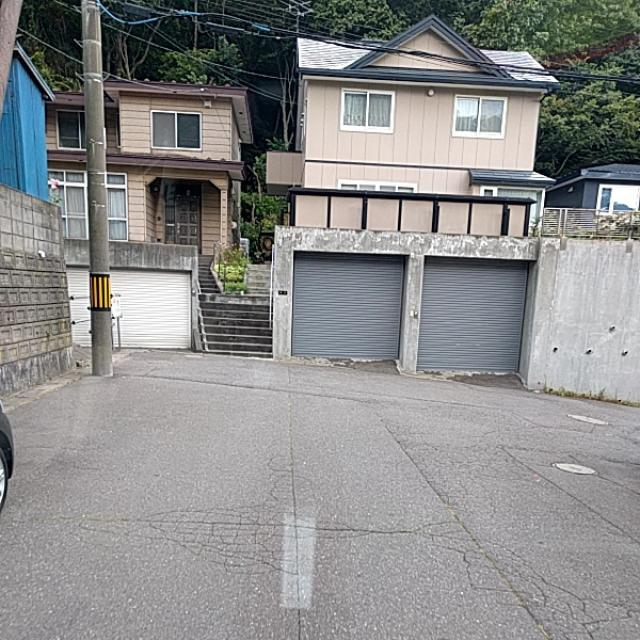pothole: (103, 448, 614, 631)
